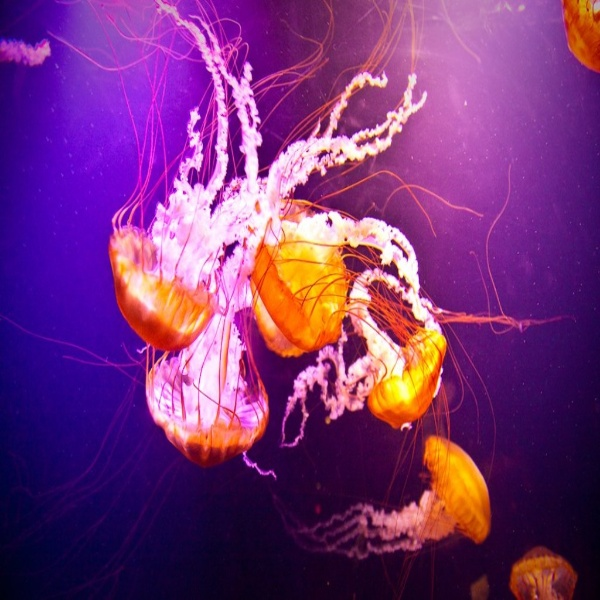Jellyfish: (141, 0, 407, 472), (279, 257, 581, 447), (243, 190, 454, 368), (275, 428, 494, 567), (509, 545, 578, 598), (560, 0, 599, 78)
